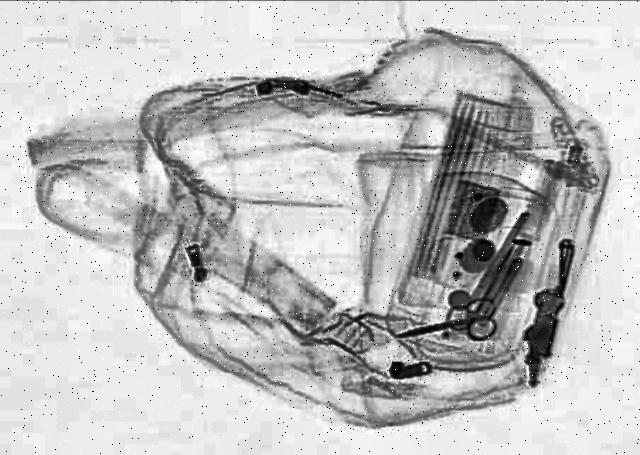Pliers: (386, 297, 508, 357)
